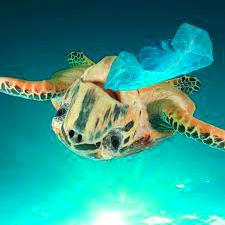Trash: (104, 18, 215, 93)
